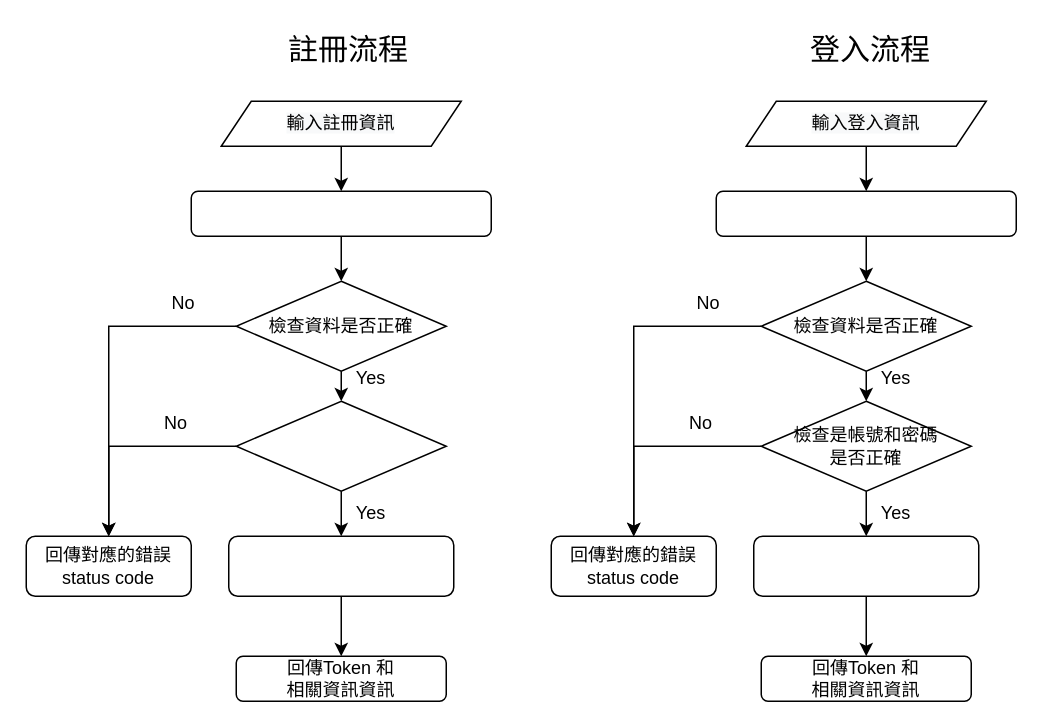
Some shapes in this 1043 by 728 pixel diagram are drawn without their labels. The shapes that lost their labels are listed below. From the top down, each one's centre as x and y in pixels, then its label:
At point (340, 213): "request POST auth/register".
At point (865, 213): "request POST auth/login".
At point (340, 445): "檢查是否為重複的帳號".
At point (340, 565): "產生token 和新建帳號到DB".
At point (865, 565): "刪除舊Token 產生新token 到DB".
